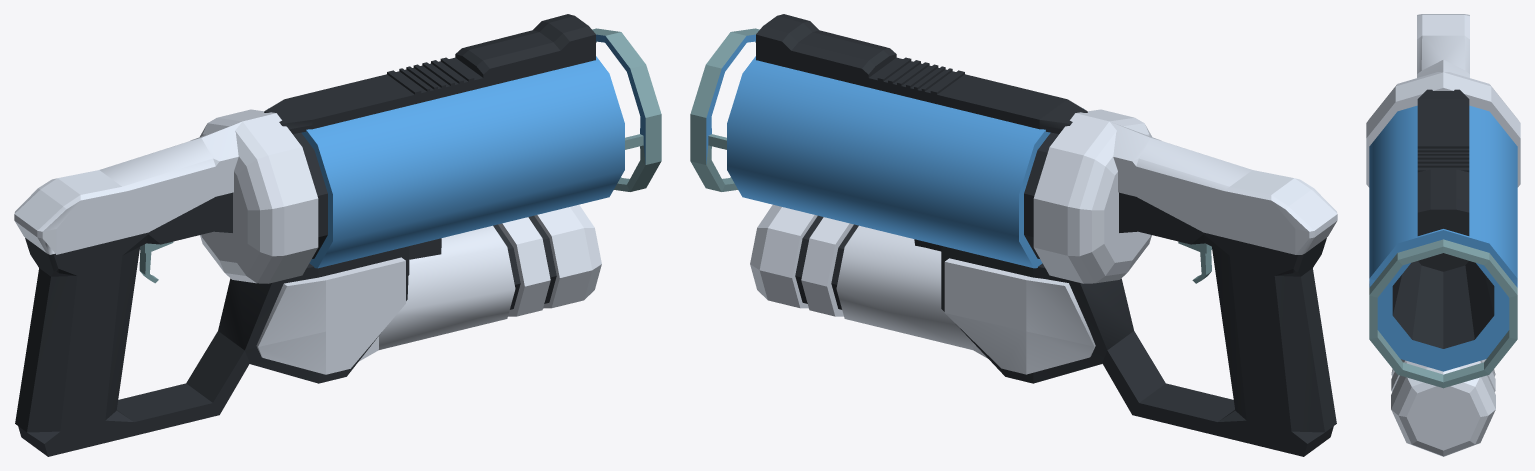
Rendered from CryoGun.fbx.
The picture shows the model from 3 angles, left to right: view 1: azimuth 30°, elevation 25°; view 2: azimuth 150°, elevation 25°; view 3: azimuth 270°, elevation 25°; orthographic projection. The views are drawn at different scales.
Parts seen in each view (by area): view 1: CryoGun; view 2: CryoGun; view 3: CryoGun.
Part boxes in pixels (x1=…): CryoGun: x1=14, y1=14, x2=661, y2=456; CryoGun: x1=690, y1=14, x2=1337, y2=456; CryoGun: x1=1366, y1=14, x2=1520, y2=456.
Bounding box in the file's own units: 618 × 287 × 148.
